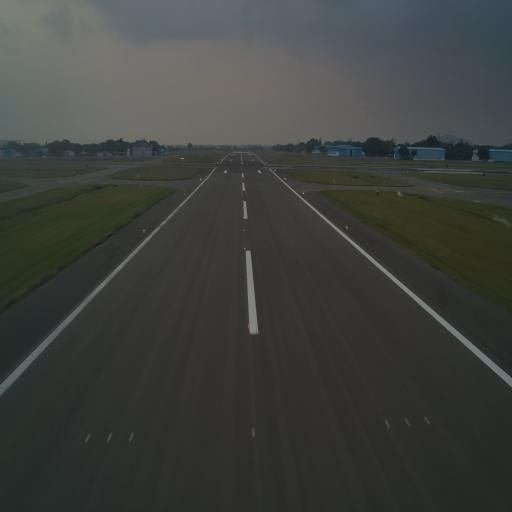on: (251, 428, 258, 438), (244, 274, 248, 280), (247, 323, 250, 329), (243, 228, 246, 234), (345, 224, 348, 229), (143, 228, 145, 234), (244, 246, 246, 252)
